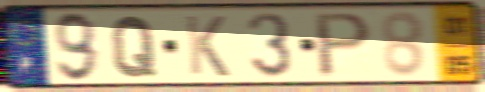3: (245, 11, 294, 80)
8: (380, 9, 429, 81)
9: (52, 10, 102, 84)
K: (183, 13, 232, 79)
P: (313, 10, 375, 80)
Q: (109, 14, 158, 80)
